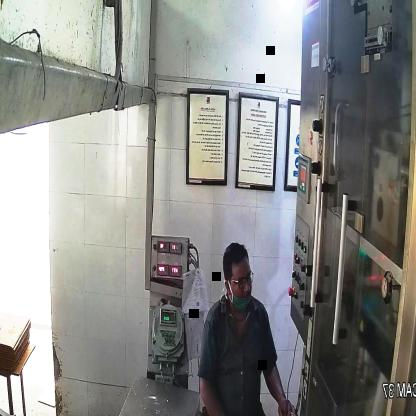goggles: (224, 266, 256, 293)
